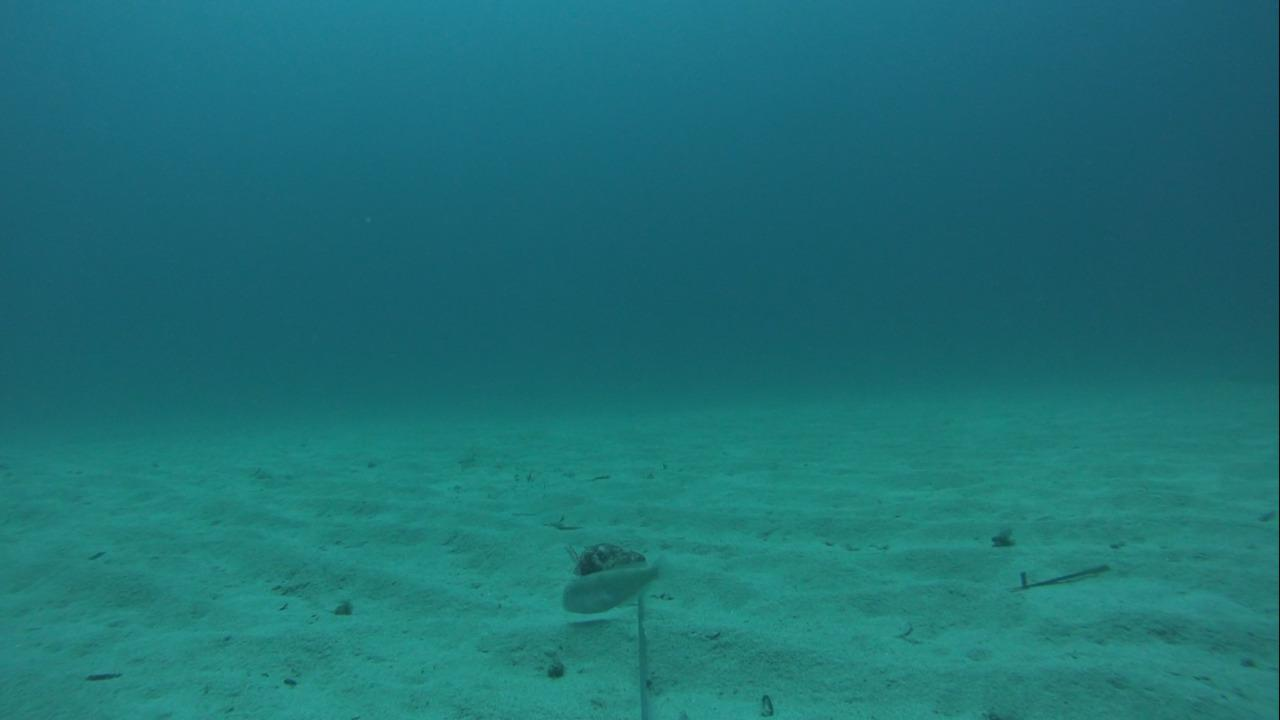raor: (556, 555, 667, 616)
